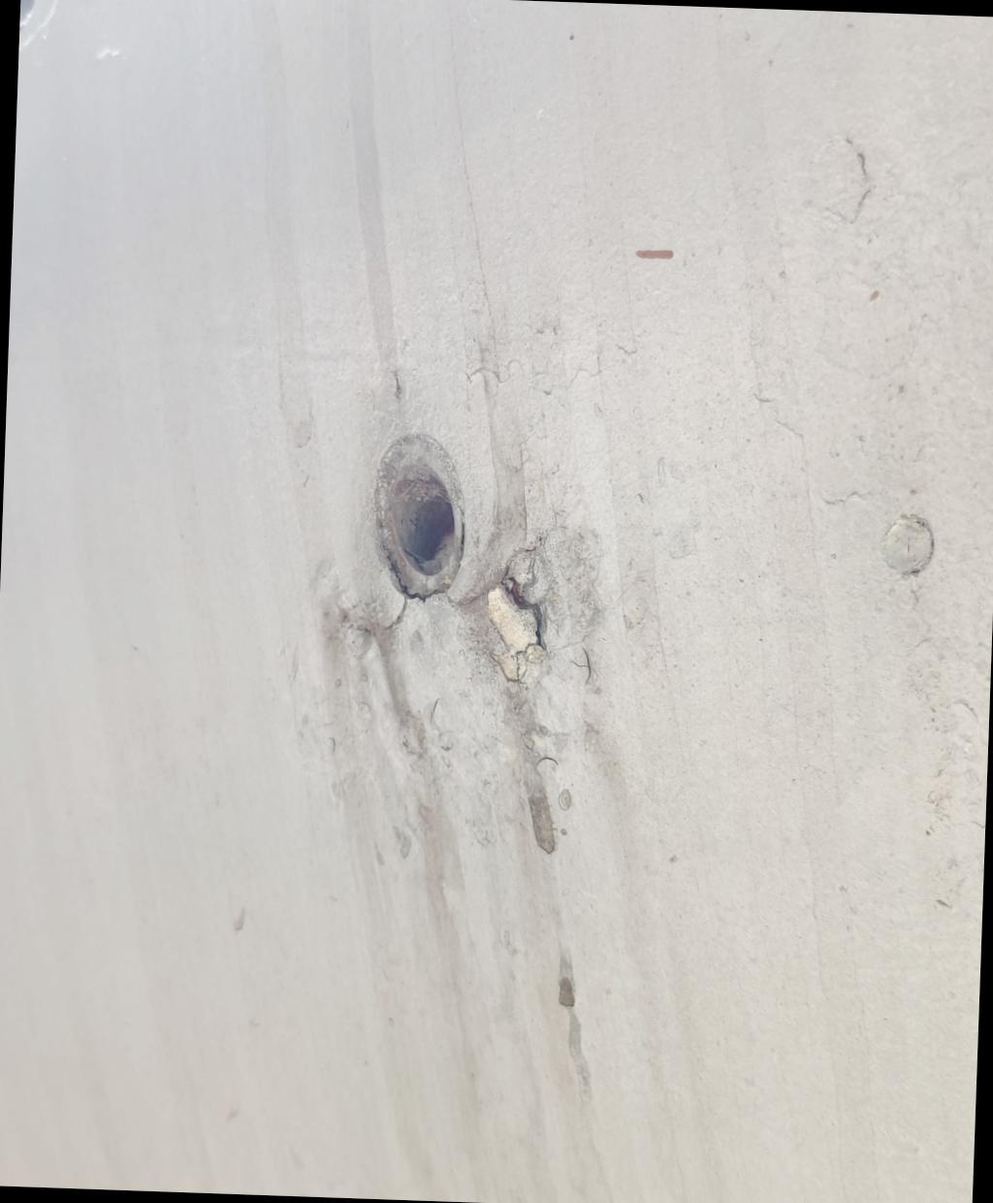crack: (443, 531, 586, 692)
